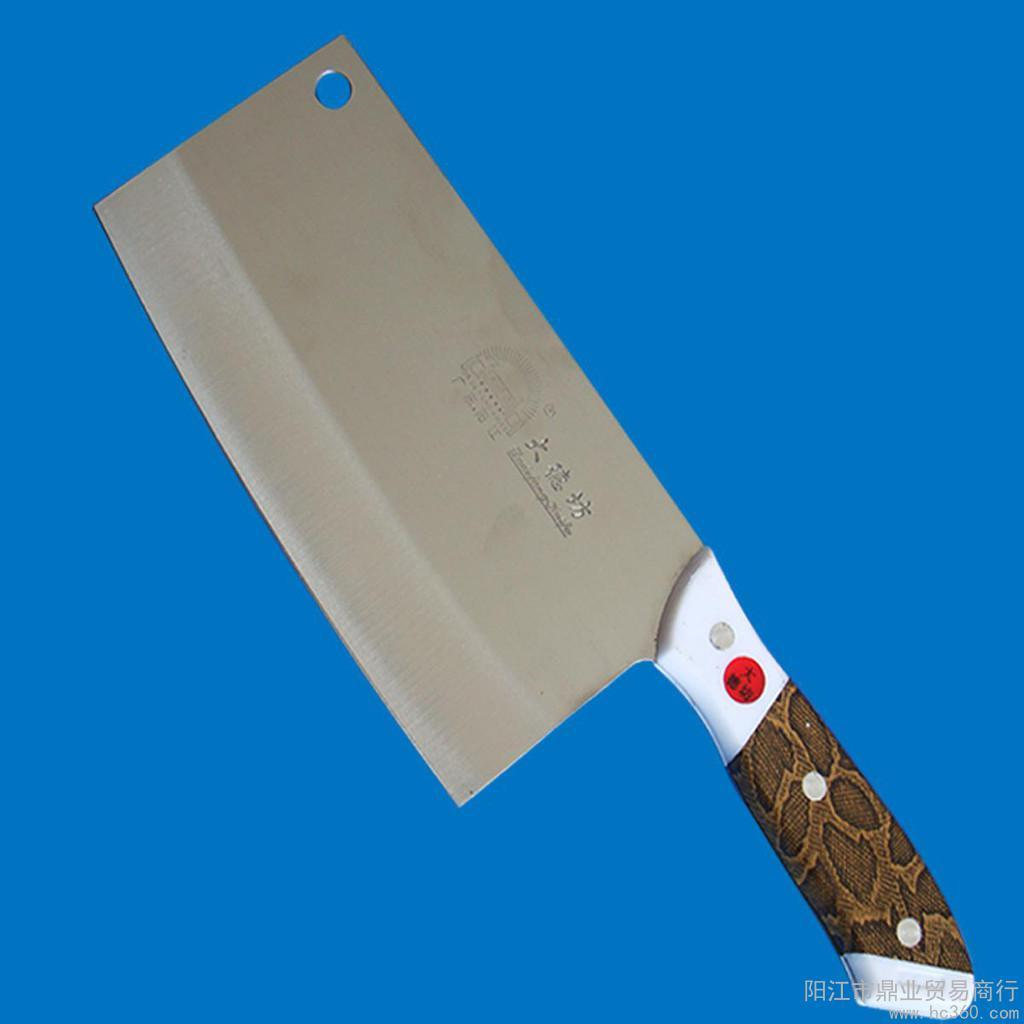knife: (49, 24, 1011, 1014)
